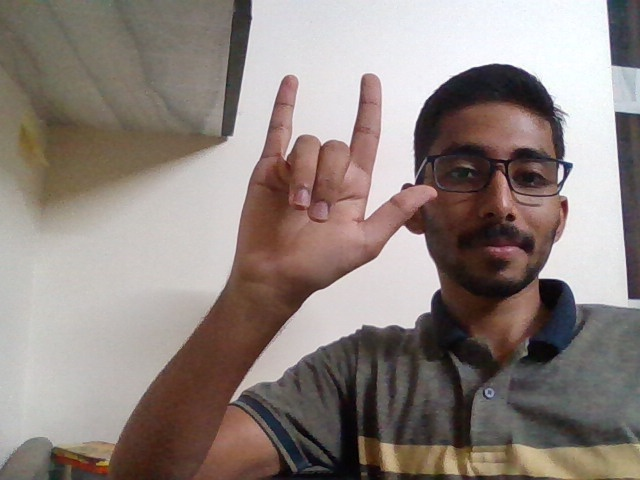Enjoy: (218, 55, 448, 322)
